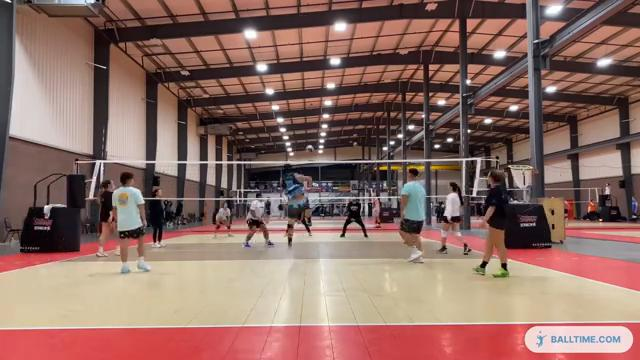attacco: (273, 155, 315, 239)
